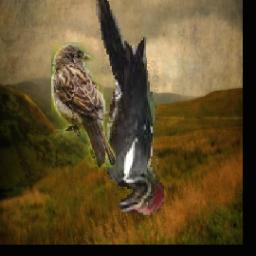Sparrow: (51, 43, 116, 168)
Woodpecker: (96, 0, 164, 216)
